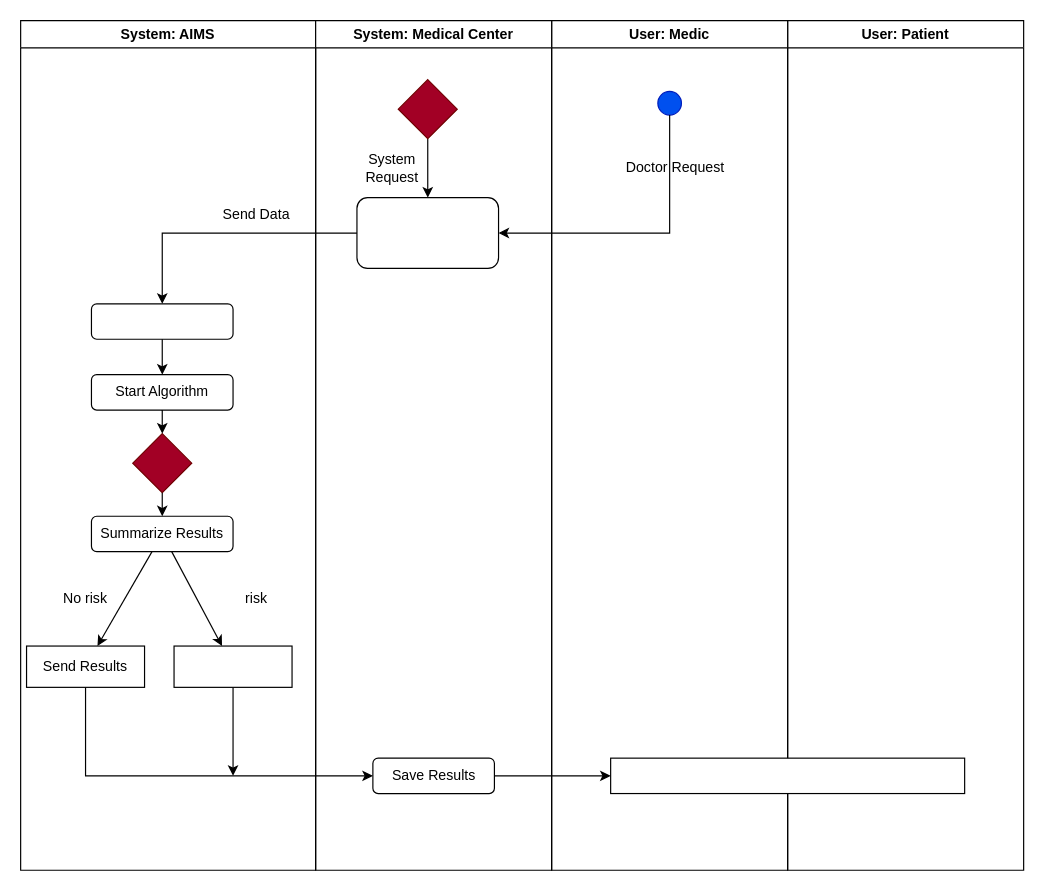
Image size: 1044x891. Some labels were removed from this diagram. The shapes that lost their labels are listed below. From the top down, each one's centre as x and y in pixels, then its label:
the point at 427,232: Start process
the point at 161,321: Process Data
the point at 232,666: Send Warning + Results
the point at 787,775: Receive results
